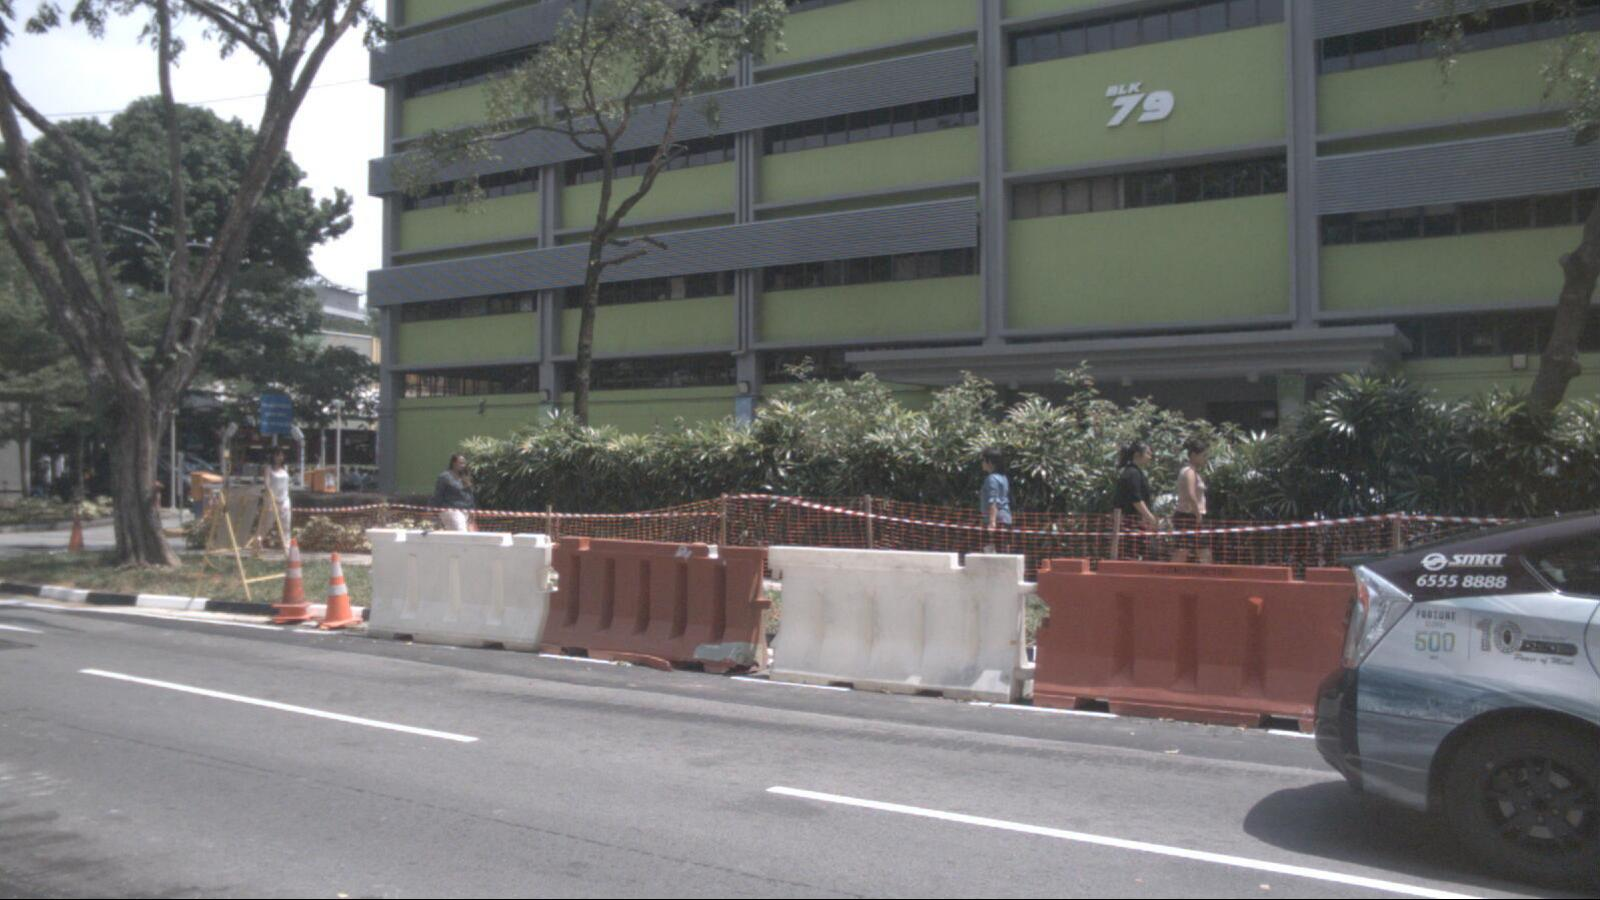human.pedestrian.adult-pedestrian.moving: (1113, 442, 1157, 600), (1171, 439, 1208, 600), (429, 454, 474, 575), (251, 447, 296, 559), (978, 447, 1011, 595), (39, 450, 53, 486), (54, 449, 66, 485), (292, 468, 301, 499)
